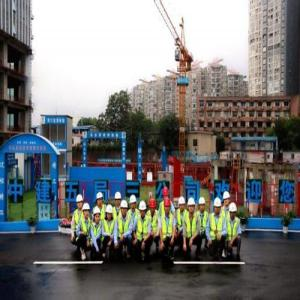red: (164, 200, 172, 216), (149, 199, 157, 214), (162, 187, 170, 201)
white: (213, 199, 223, 216), (229, 203, 239, 220), (93, 208, 102, 226), (139, 201, 148, 217), (198, 197, 207, 213), (83, 203, 91, 220), (121, 200, 129, 217), (179, 196, 187, 213), (188, 198, 196, 215), (130, 196, 138, 211), (223, 191, 231, 206), (107, 205, 114, 221), (115, 191, 122, 207), (77, 196, 84, 210), (97, 194, 104, 208)
